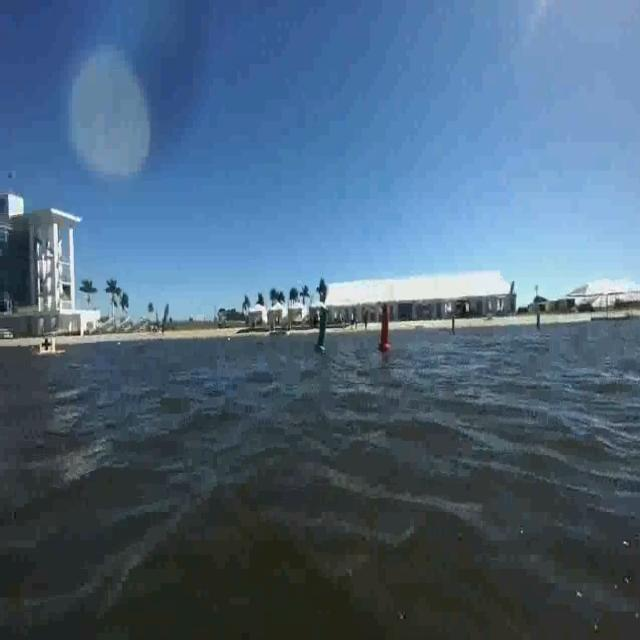green-column-buoy: (314, 305, 329, 351)
red-column-buoy: (378, 304, 393, 350)
